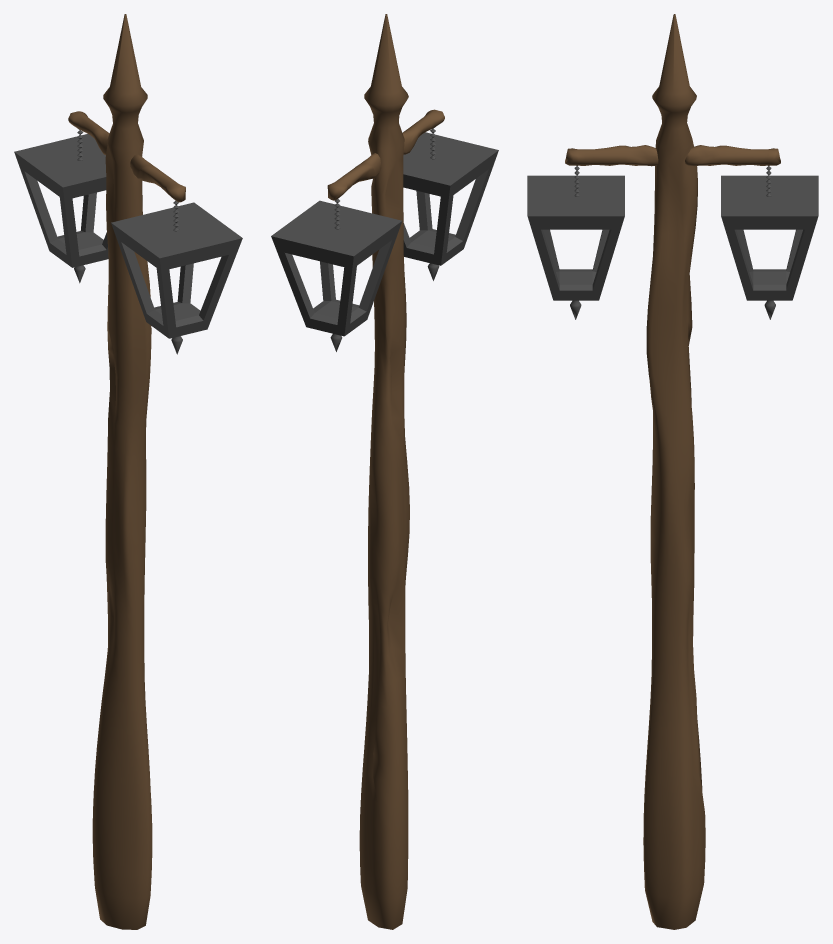
File: LightPole.fbx
3 renders of one model, left to right at view 1: azimuth 30°, elevation 25°; view 2: azimuth 150°, elevation 25°; view 3: azimuth 270°, elevation 25°, orthographic.
Parts seen in each view (by area): view 1: plank3.093, Cube.038, plank3.094; view 2: plank3.093, Cube.038, plank3.094; view 3: plank3.093, Cube.038, plank3.094.
Boxes of the visible parts, x1,y1,x2,y2 form: plank3.093: (92,14,152,929); Cube.038: (14,134,242,338); plank3.094: (68,111,185,202); plank3.093: (359,14,409,929); Cube.038: (271,132,498,336); plank3.094: (327,109,444,200); plank3.093: (643,14,705,929); Cube.038: (527,175,818,300); plank3.094: (565,145,780,166).
Size of the model in its own units: 71.39 by 745 by 217.
